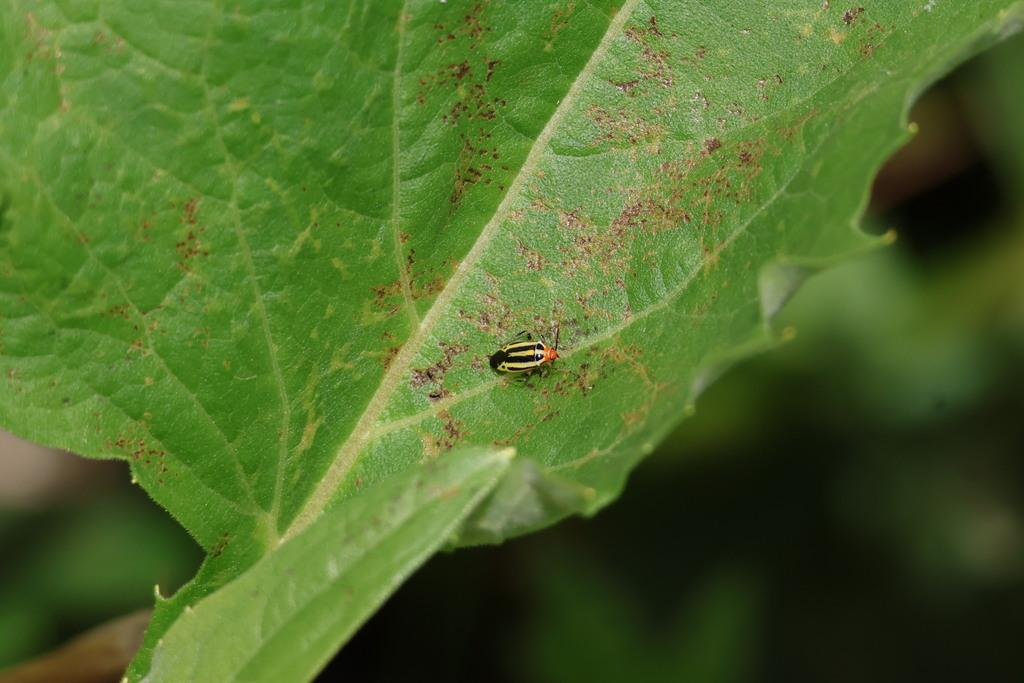plant_bugs: (477, 305, 579, 404)
